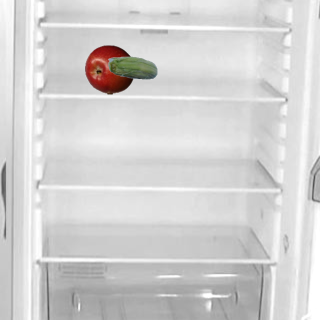Apple Braeburn: (84, 44, 134, 94)
Corn Husk: (107, 44, 157, 94)
